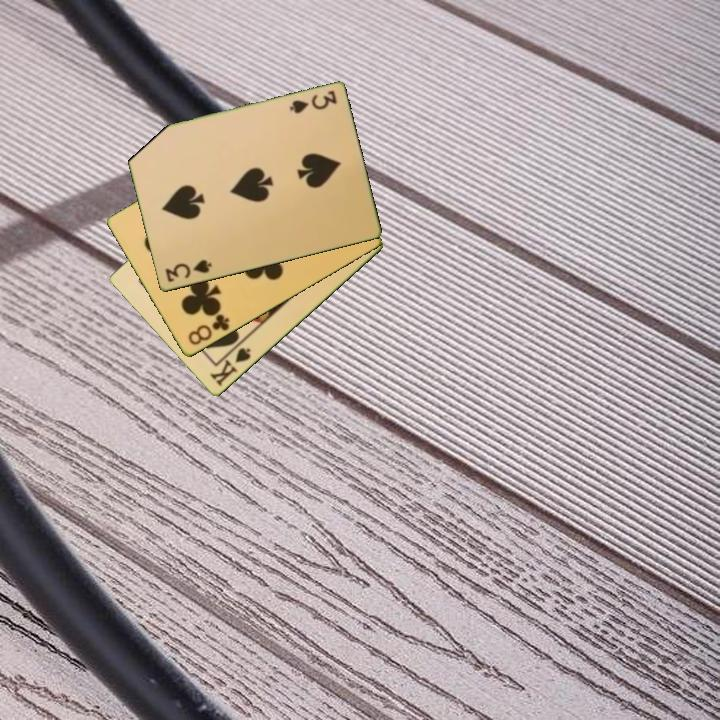3s: (286, 87, 340, 117), (161, 256, 214, 285)
8c: (184, 311, 233, 348)
Ks: (206, 344, 254, 390)
